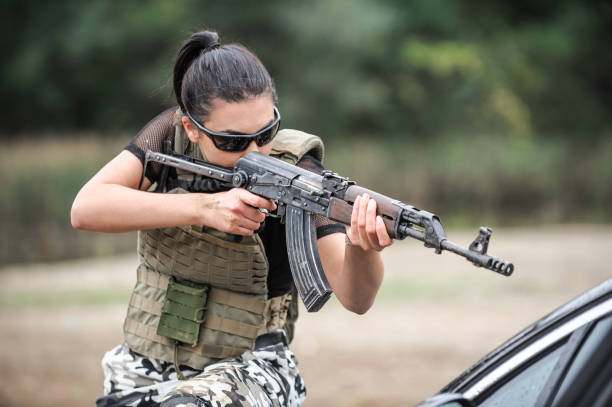gun: (144, 148, 516, 315)
